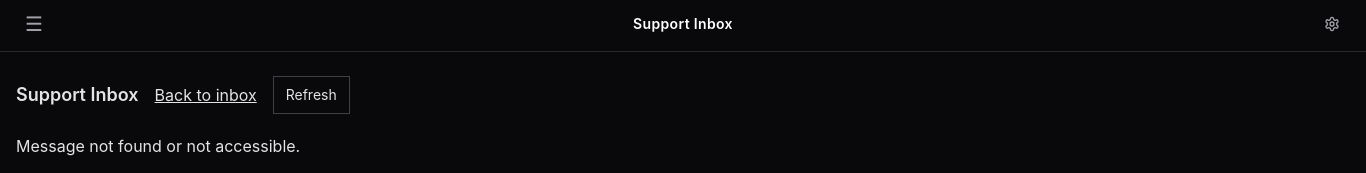
it: Admin support inbox › shows missing detail and query errors without claiming the inbox is empty
Click the button "Refresh": (311, 95) [273,76,350,114]
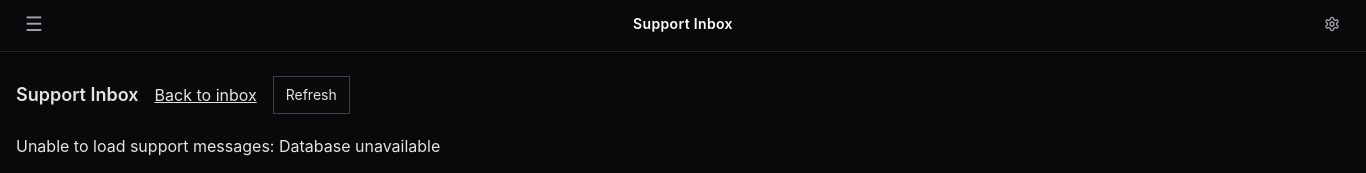
Result: the message "Unable to load support messages: Database unavailable" is shown at [16,136,440,156]
Result: the text "Message not found" is gone
